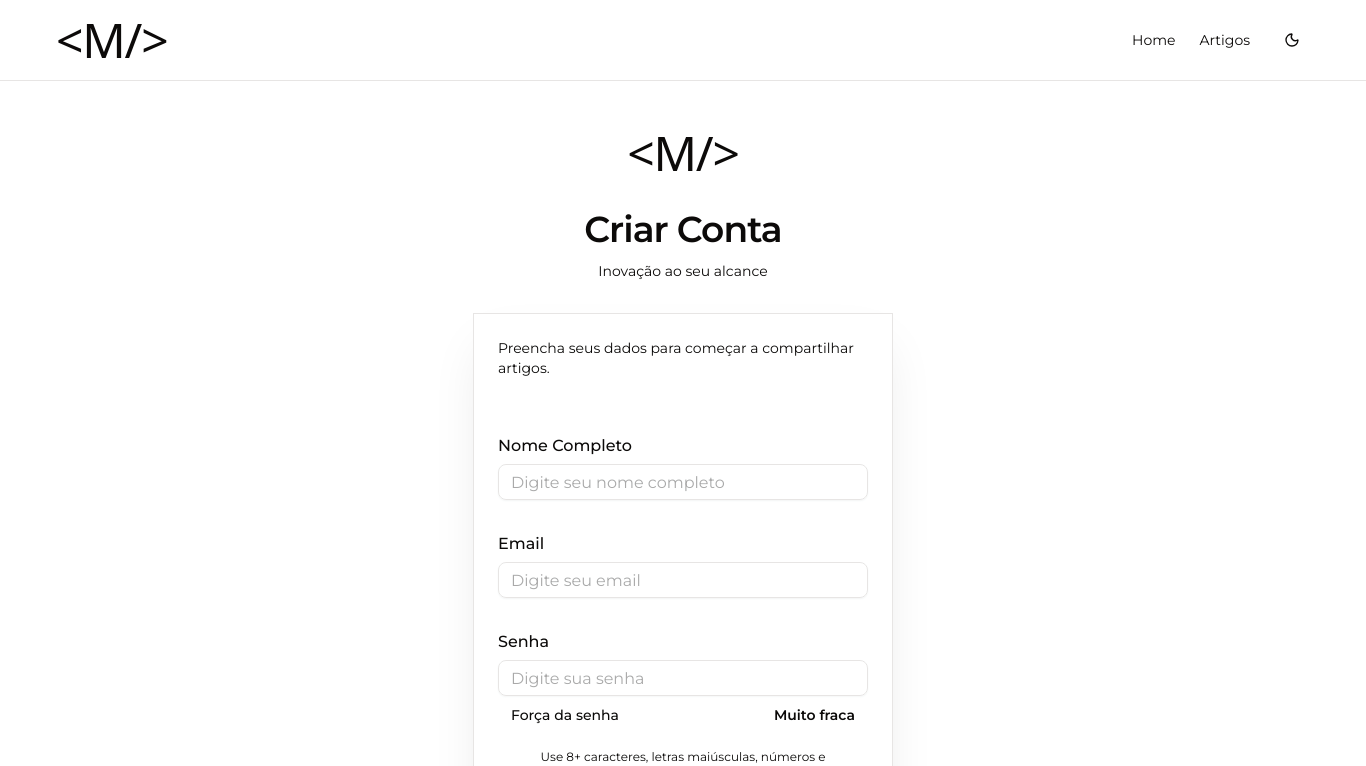
Scenario: RegisterUserPage › should render password strength feedback when typing a password
The width and height of the screenshot is (1366, 766).
In the password field with placeholder "Digite sua senha": (683, 678) [498,660,868,696], type "SenhaForte#2026"
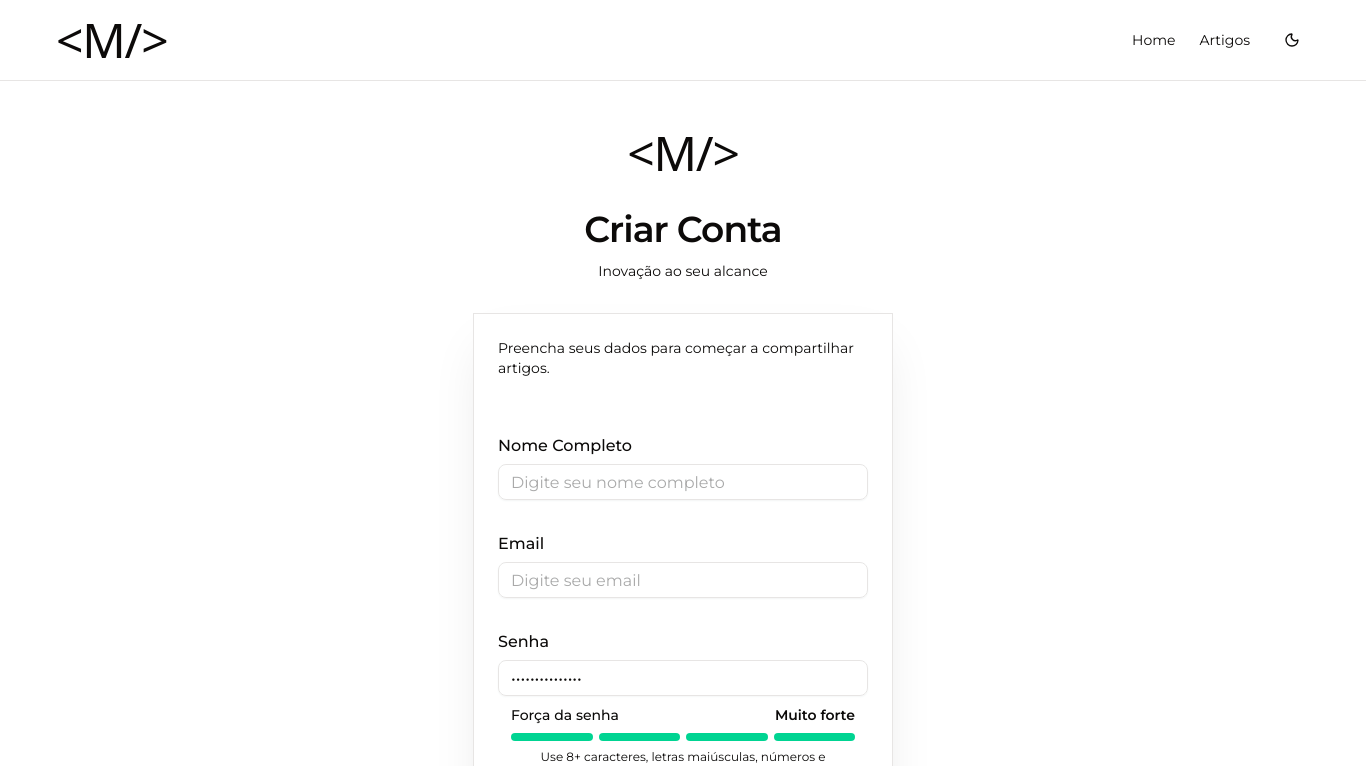
Expected: the text "Força da senha" is shown, [511,705,619,725]
Expected: the text "Muito forte" is shown, [775,705,855,725]
